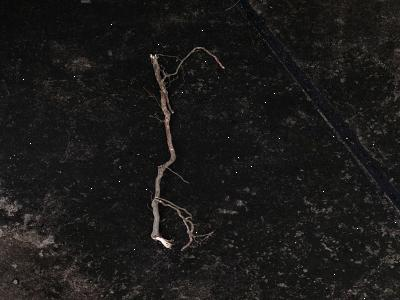Root: (150, 47, 224, 248), (171, 203, 194, 243)
